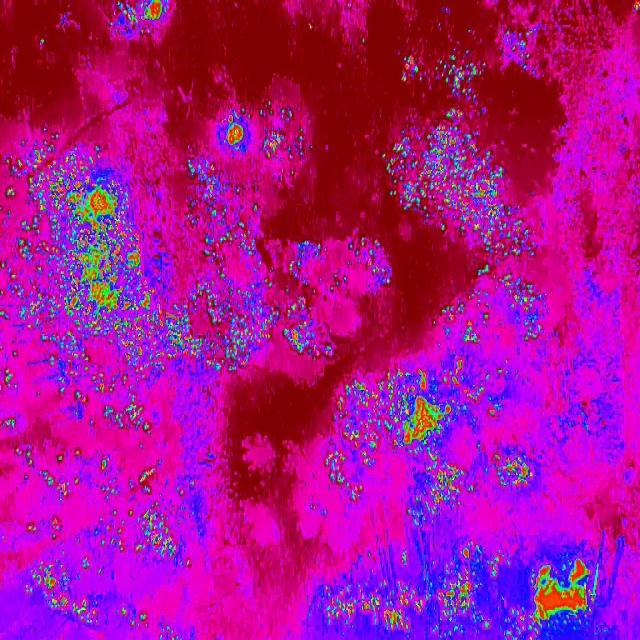fire: (0, 115, 226, 640), (330, 374, 550, 534), (306, 534, 637, 640), (381, 113, 538, 259), (226, 234, 372, 378), (434, 270, 550, 374), (211, 93, 312, 179), (186, 181, 270, 268), (435, 48, 488, 113), (105, 0, 169, 38), (500, 25, 546, 75), (398, 51, 423, 80)
